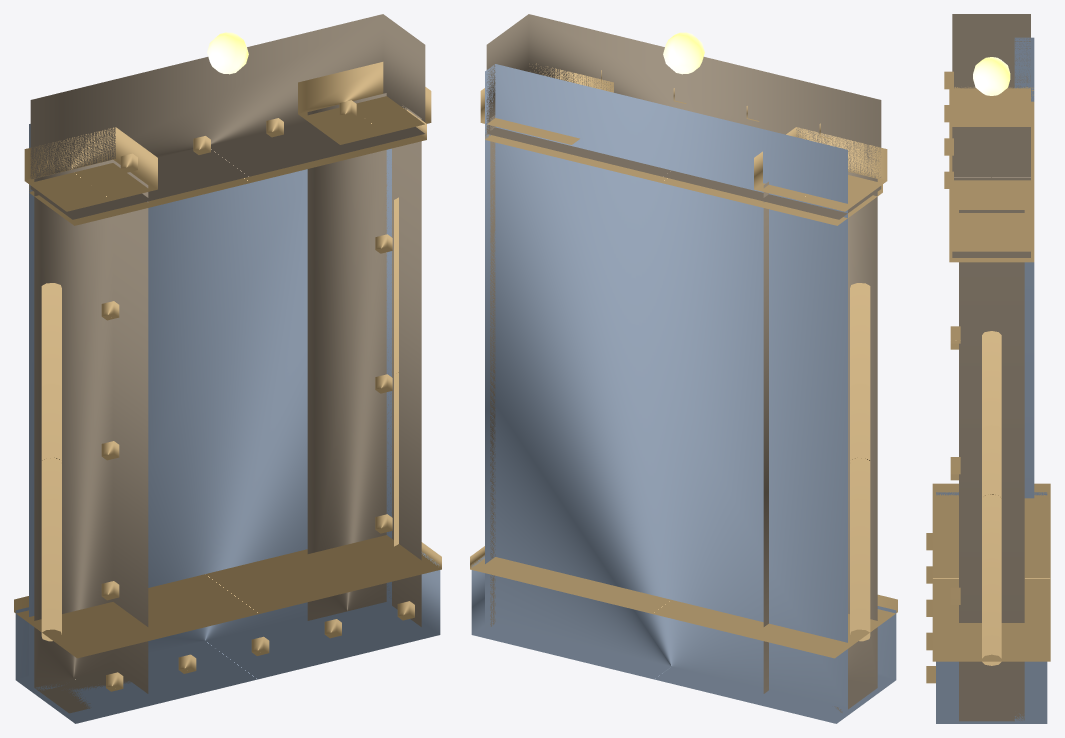
Rendered from press_frame.glb.
3 views of the same model, side by side, from view 1: azimuth 30°, elevation 25°; view 2: azimuth 150°, elevation 25°; view 3: azimuth 270°, elevation 25° (orthographic). The views are drawn at different scales.
Bounding box in the file's own units: 122 × 196 × 38.
